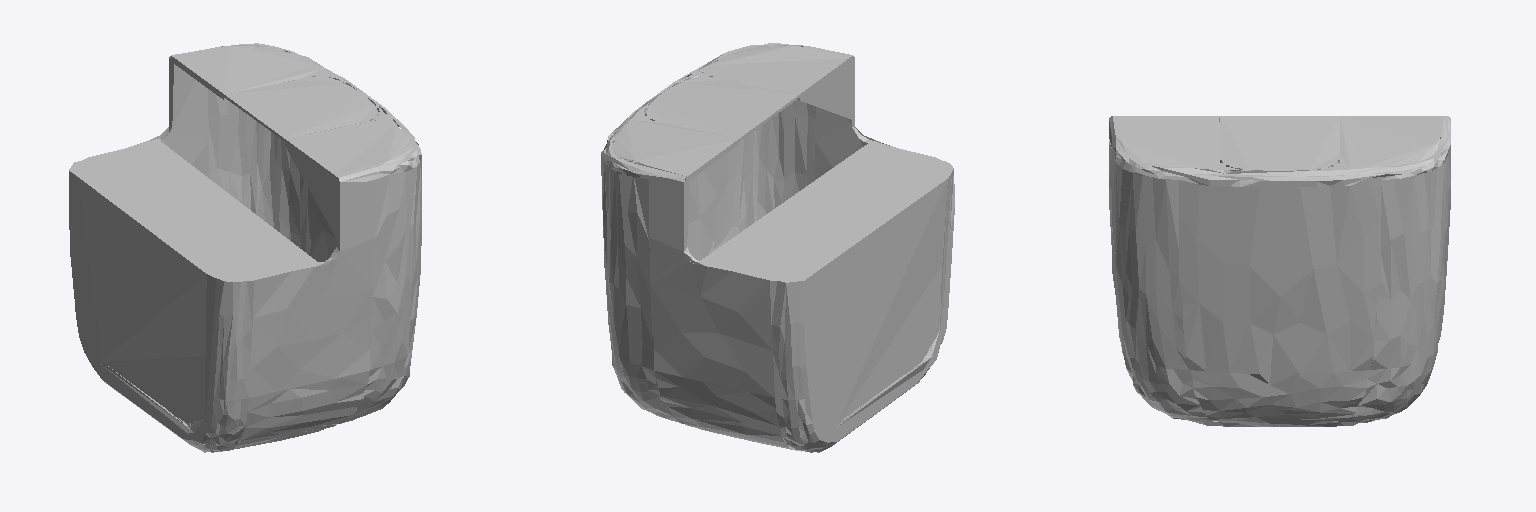
File: wrist_roll.obj
3 views of the same model, side by side, from view 1: azimuth 30°, elevation 25°; view 2: azimuth 150°, elevation 25°; view 3: azimuth 270°, elevation 25° (orthographic).
Size of the model in its own units: 0.079 by 0.092 by 0.102.